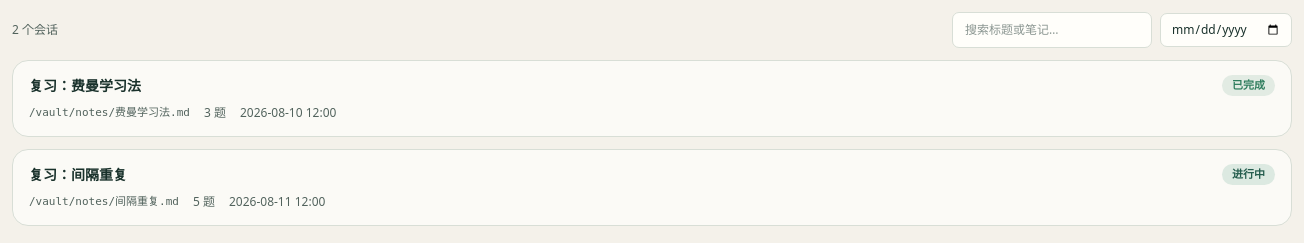
Test: ReviewSessionList › 搜索按标题过滤
The image size is (1304, 243).
Type "间隔重复" into the field with class "review-session-search" at point(1052, 30), box [952, 12, 1152, 48]
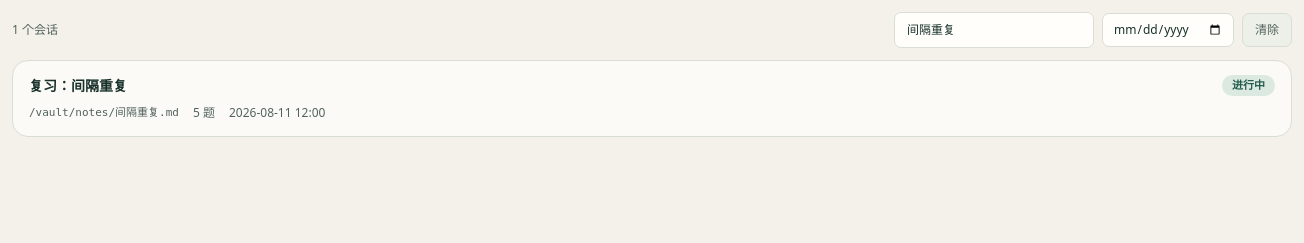
Expected: the text "复习：间隔重复" is shown, [29, 75, 127, 96]
Now the number of buttons with class "review-session-item" is 1, box [12, 60, 1292, 137]
